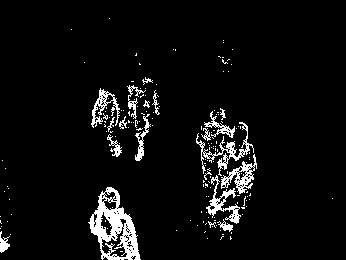person: (207, 120, 260, 243), (117, 76, 165, 164), (88, 185, 141, 260), (196, 105, 233, 191), (89, 88, 123, 158)
